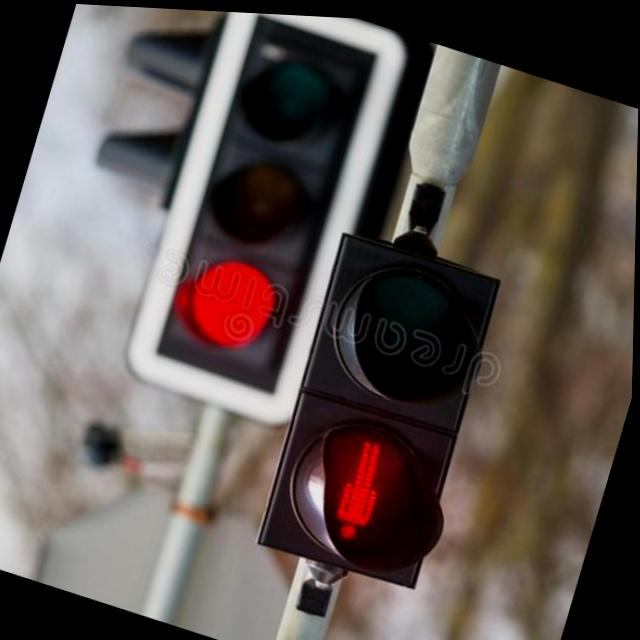red_light: (266, 394, 458, 583)
